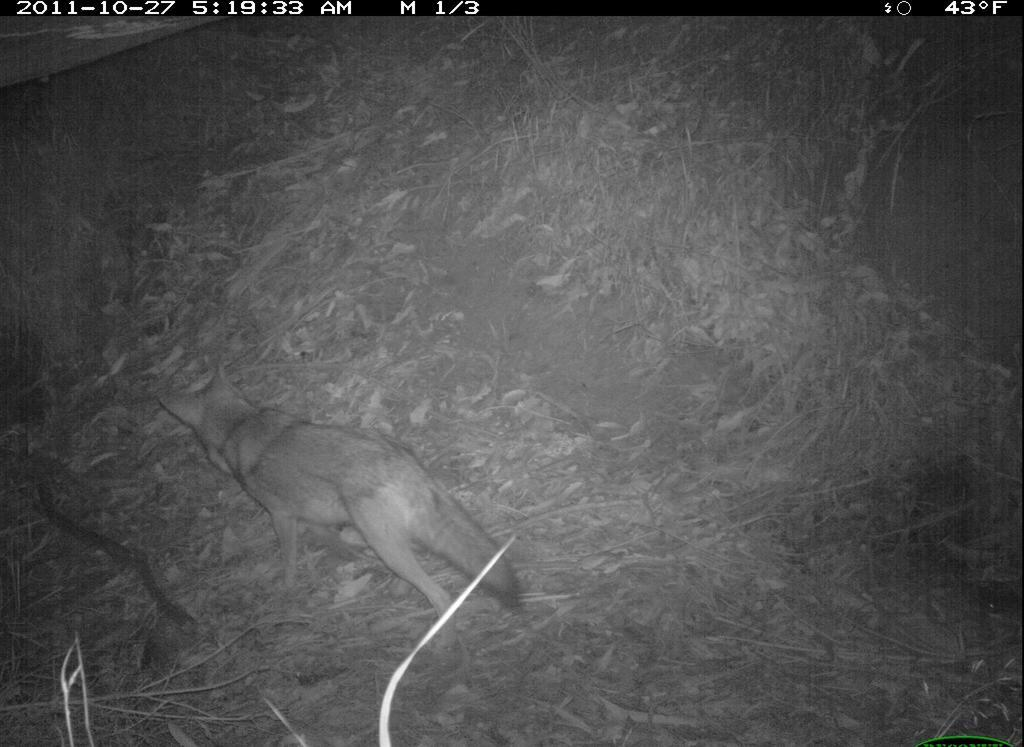coyote: (159, 370, 520, 628)
